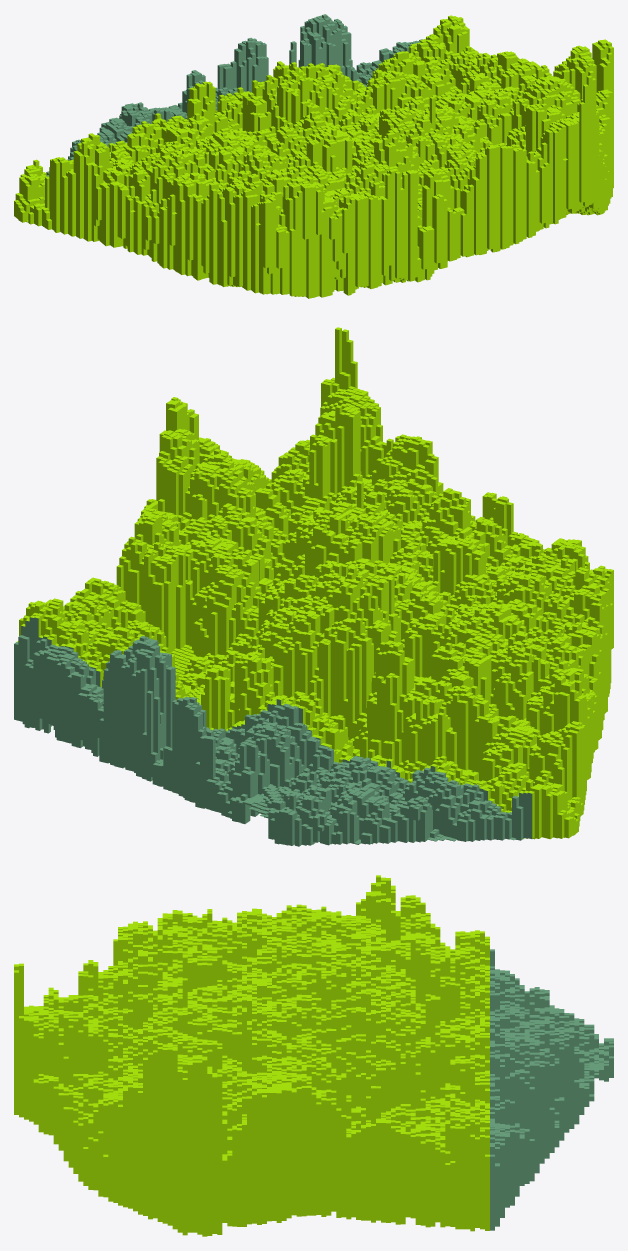
File: gamba-split.glb
3 views of the same model, one above another, from view 1: azimuth 30°, elevation 25°; view 2: azimuth 150°, elevation 25°; view 3: azimuth 270°, elevation 25° (orthographic). The views are drawn at different scales.
Parts seen in each view (by area): view 1: 1.001, 1.002; view 2: 1.001, 1.002; view 3: 1.001, 1.002.
Boxes of the visible parts, box(x1,y1,x2,y2) form: 1.001: box(14, 15, 613, 298); 1.002: box(46, 14, 422, 176); 1.001: box(17, 327, 613, 839); 1.002: box(14, 617, 532, 846); 1.001: box(14, 875, 489, 1236); 1.002: box(490, 949, 613, 1230).
Size of the model in its own units: 0.5984 by 0.2501 by 0.5747.
